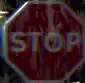Stop: (3, 0, 84, 82)
